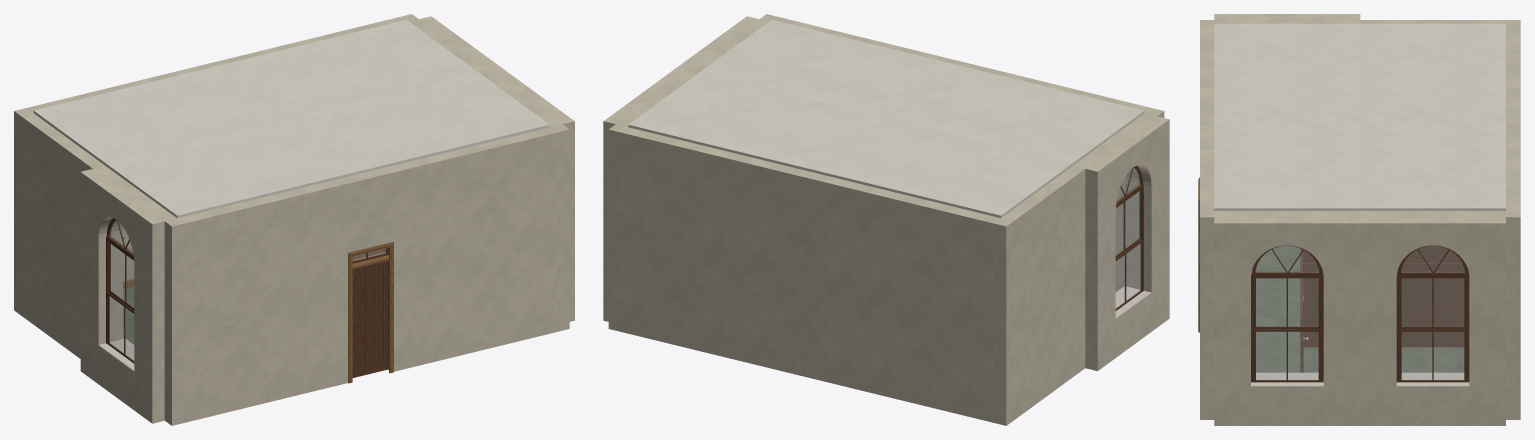
The model's file is X14_DEMO_LRS_Room_1953.glb.
3 views of the same model, side by side, from view 1: azimuth 30°, elevation 25°; view 2: azimuth 150°, elevation 25°; view 3: azimuth 270°, elevation 25° (orthographic).
Parts seen in each view (by area): view 1: X14_ARCH_Wall_Plain_300_LOD0.s0.001, X14_ARCH_Wall_Plain_300_LOD0.s2.001, X14_ARCH_Wall_Door_300_LOD0.s1.001, X14_ARCH_Wall_Window_300_LOD0.w1.001, X14_ARCH_Wall_Plain_300_LOD0.w0.001, X14_ARCH_Ceiling_Coffered_300_LOD0.c00, X14_ARCH_Ceiling_Coffered_300_LOD0.c10, X14_ARCH_Ceiling_Coffered_300_LOD0.c20, X14_ARCH_Ceiling_Coffered_300_LOD0.c01, X14_ARCH_Ceiling_Coffered_300_LOD0.c11, X14_ARCH_Ceiling_Coffered_300_LOD0.c21, X14_ARCH_Corner_LOD0.k0.001 (+10 smaller); view 2: X14_ARCH_Wall_Plain_300_LOD0.n1.001, X14_ARCH_Wall_Plain_300_LOD0.n2.001, X14_ARCH_Wall_Plain_300_LOD0.n0.001, X14_ARCH_Wall_Window_300_LOD0.w1.001, X14_ARCH_Wall_Plain_300_LOD0.w0.001, X14_ARCH_Ceiling_Coffered_300_LOD0.c01, X14_ARCH_Ceiling_Coffered_300_LOD0.c21, X14_ARCH_Ceiling_Coffered_300_LOD0.c11, X14_ARCH_Ceiling_Coffered_300_LOD0.c00, X14_ARCH_Ceiling_Coffered_300_LOD0.c10, X14_ARCH_Ceiling_Coffered_300_LOD0.c20, X14_ARCH_Corner_LOD0.k3.001 (+7 smaller); view 3: X14_ARCH_Wall_Window_300_LOD0.e0.001, X14_ARCH_Wall_Window_300_LOD0.e1.001, X14_ARCH_Ceiling_Coffered_300_LOD0.c20, X14_ARCH_Ceiling_Coffered_300_LOD0.c21, X14_ARCH_Ceiling_Coffered_300_LOD0.c00, X14_ARCH_Ceiling_Coffered_300_LOD0.c01, X14_ARCH_Ceiling_Coffered_300_LOD0.c10, X14_ARCH_Ceiling_Coffered_300_LOD0.c11, X14_ARCH_Wall_Window_300_Glass_LOD0.e0.001, X14_ARCH_Wall_Window_300_Glass_LOD0.e1.001, X14_ARCH_Corner_LOD0.k1.001, X14_ARCH_Corner_LOD0.k2.001 (+17 smaller).
Boxes of the visible parts, x1,y1,x2,y2 form: X14_ARCH_Wall_Plain_300_LOD0.s0.001: (177, 188, 308, 422); X14_ARCH_Wall_Plain_300_LOD0.s2.001: (426, 127, 557, 362); X14_ARCH_Wall_Door_300_LOD0.s1.001: (302, 157, 432, 392); X14_ARCH_Wall_Window_300_LOD0.w1.001: (80, 166, 176, 423); X14_ARCH_Wall_Plain_300_LOD0.w0.001: (21, 113, 104, 358); X14_ARCH_Ceiling_Coffered_300_LOD0.c00: (105, 133, 301, 218); X14_ARCH_Ceiling_Coffered_300_LOD0.c10: (230, 102, 425, 187); X14_ARCH_Ceiling_Coffered_300_LOD0.c20: (354, 72, 549, 157); X14_ARCH_Ceiling_Coffered_300_LOD0.c01: (33, 80, 229, 165); X14_ARCH_Ceiling_Coffered_300_LOD0.c11: (158, 50, 353, 132); X14_ARCH_Ceiling_Coffered_300_LOD0.c21: (282, 19, 477, 102); X14_ARCH_Corner_LOD0.k0.001: (164, 218, 184, 425); X14_ARCH_Wall_Plain_300_LOD0.n1.001: (745, 157, 876, 392); X14_ARCH_Wall_Plain_300_LOD0.n2.001: (869, 188, 1000, 422); X14_ARCH_Wall_Plain_300_LOD0.n0.001: (621, 127, 751, 361); X14_ARCH_Wall_Window_300_LOD0.w1.001: (1073, 113, 1169, 371); X14_ARCH_Wall_Plain_300_LOD0.w0.001: (1001, 166, 1085, 420); X14_ARCH_Ceiling_Coffered_300_LOD0.c01: (877, 133, 1072, 217); X14_ARCH_Ceiling_Coffered_300_LOD0.c21: (628, 72, 823, 157); X14_ARCH_Ceiling_Coffered_300_LOD0.c11: (752, 102, 948, 187); X14_ARCH_Ceiling_Coffered_300_LOD0.c00: (949, 80, 1144, 165); X14_ARCH_Ceiling_Coffered_300_LOD0.c10: (824, 50, 1019, 132); X14_ARCH_Ceiling_Coffered_300_LOD0.c20: (700, 20, 895, 102); X14_ARCH_Corner_LOD0.k3.001: (994, 218, 1013, 425); X14_ARCH_Wall_Window_300_LOD0.e0.001: (1214, 211, 1360, 425); X14_ARCH_Wall_Window_300_LOD0.e1.001: (1360, 211, 1505, 425); X14_ARCH_Ceiling_Coffered_300_LOD0.c20: (1214, 147, 1360, 210); X14_ARCH_Ceiling_Coffered_300_LOD0.c21: (1360, 147, 1505, 210); X14_ARCH_Ceiling_Coffered_300_LOD0.c00: (1214, 23, 1360, 85); X14_ARCH_Ceiling_Coffered_300_LOD0.c01: (1360, 23, 1505, 85); X14_ARCH_Ceiling_Coffered_300_LOD0.c10: (1214, 85, 1360, 146); X14_ARCH_Ceiling_Coffered_300_LOD0.c11: (1360, 85, 1505, 146); X14_ARCH_Wall_Window_300_Glass_LOD0.e0.001: (1256, 246, 1318, 379); X14_ARCH_Wall_Window_300_Glass_LOD0.e1.001: (1401, 246, 1464, 379); X14_ARCH_Corner_LOD0.k1.001: (1200, 211, 1214, 419); X14_ARCH_Corner_LOD0.k2.001: (1506, 211, 1520, 419).
Size of what is drawn, in the model's own units: 10.2 by 4.66 by 6.63.
Materials: 13 (8 with a texture image).
